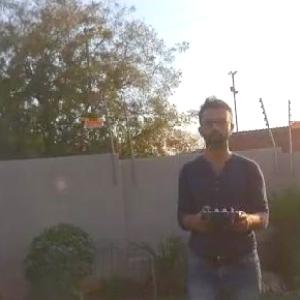follow: (175, 86, 276, 299)
